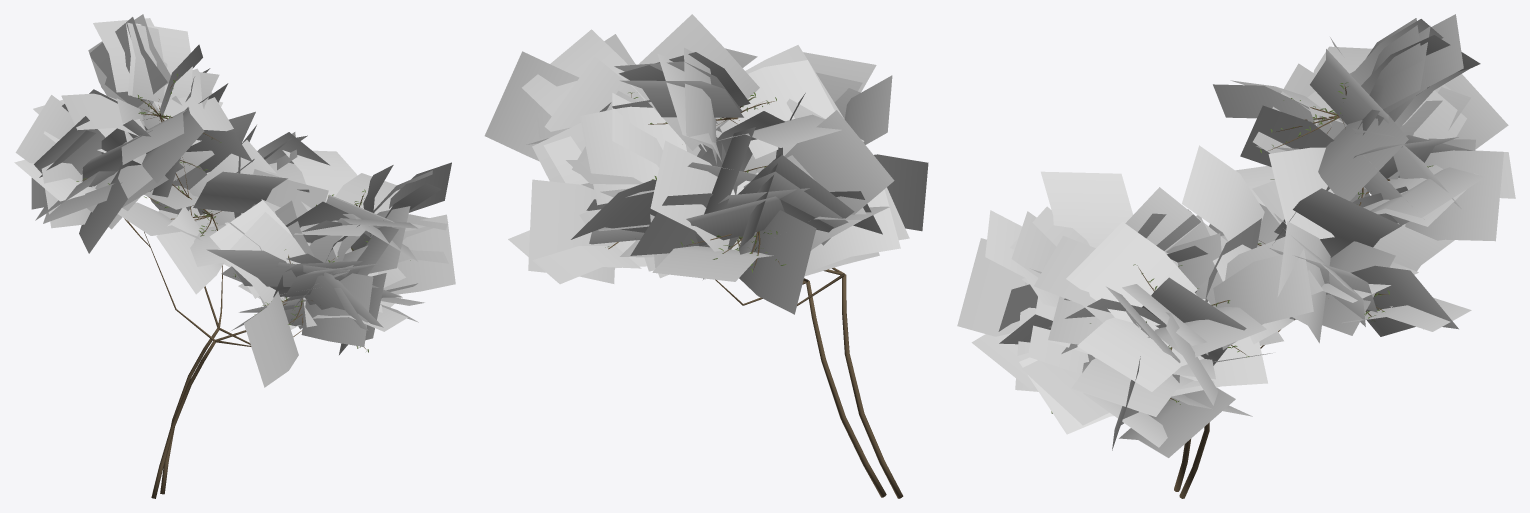
File: Bruyere_Incline_LOD1.fbx
3 renders of one model, left to right at view 1: azimuth 30°, elevation 25°; view 2: azimuth 150°, elevation 25°; view 3: azimuth 270°, elevation 25°, orthographic. The views are drawn at different scales.
Visible parts, largest first — view 1: Bruyere_Incline_LOD1; view 2: Bruyere_Incline_LOD1; view 3: Bruyere_Incline_LOD1.
Boxes of the visible parts, left/top/right/bottom form: Bruyere_Incline_LOD1: left=14, top=14, right=455, bottom=498; Bruyere_Incline_LOD1: left=484, top=14, right=928, bottom=498; Bruyere_Incline_LOD1: left=957, top=14, right=1515, bottom=498.
Size of the model in its own units: 269 by 280 by 273.
